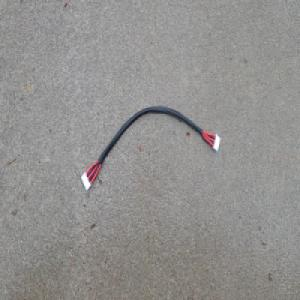Wire: (79, 103, 221, 192)
